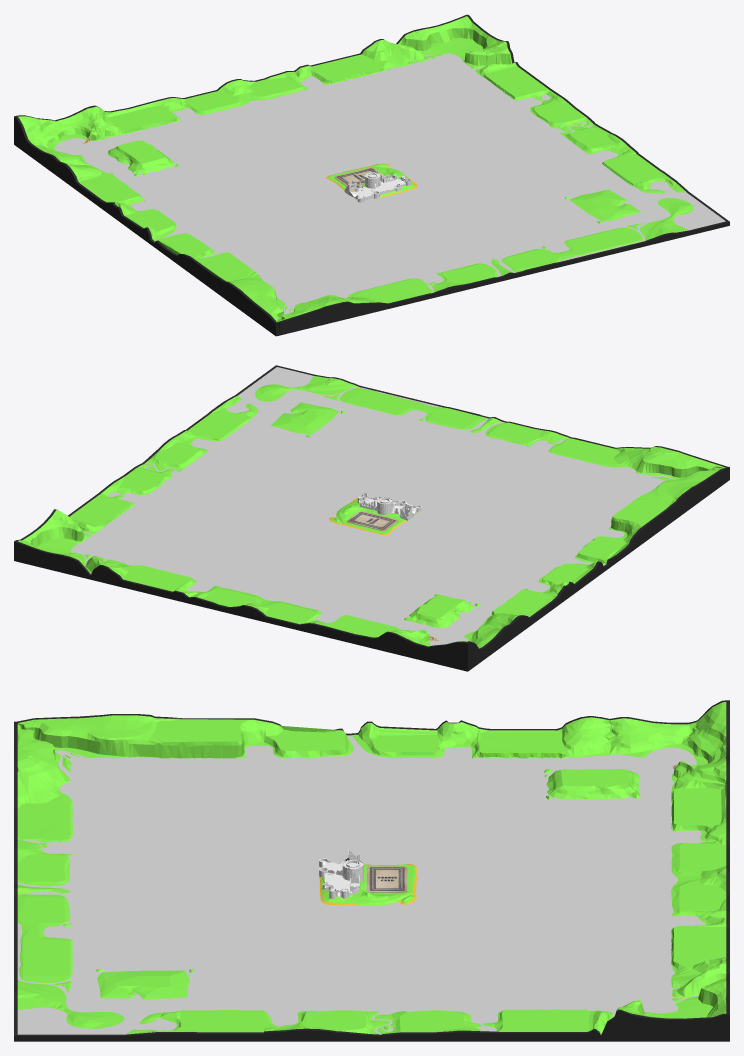
File: AllIslands.gltf
3 views of the same model, one above another, from view 1: azimuth 30°, elevation 25°; view 2: azimuth 150°, elevation 25°; view 3: azimuth 270°, elevation 25° (orthographic). The views are drawn at different scales.
Visible parts, largest first — view 1: Sea, EdgeIslands, Frame, Castle; view 2: Sea, EdgeIslands, Frame, Castle, Card; view 3: Sea, EdgeIslands, Frame, Castle, Card.
Boxes of the visible parts, x1=… form: Sea: x1=54, y1=53, x2=725, y2=314; EdgeIslands: x1=18, y1=16, x2=693, y2=322; Frame: x1=14, y1=14, x2=729, y2=336; Castle: x1=344, y1=172, x2=410, y2=202; Sea: x1=71, y1=367, x2=674, y2=645; EdgeIslands: x1=18, y1=376, x2=725, y2=648; Frame: x1=14, y1=365, x2=729, y2=671; Castle: x1=357, y1=493, x2=421, y2=520; Card: x1=346, y1=511, x2=397, y2=530; Sea: x1=17, y1=735, x2=719, y2=1034; EdgeIslands: x1=17, y1=702, x2=726, y2=1034; Frame: x1=14, y1=700, x2=729, y2=1041; Castle: x1=319, y1=849, x2=363, y2=898; Card: x1=366, y1=866, x2=407, y2=892.
Bounding box in the file's own units: 23.36 × 1.39 × 23.36.
Materials: 8 (1 with a texture image).
